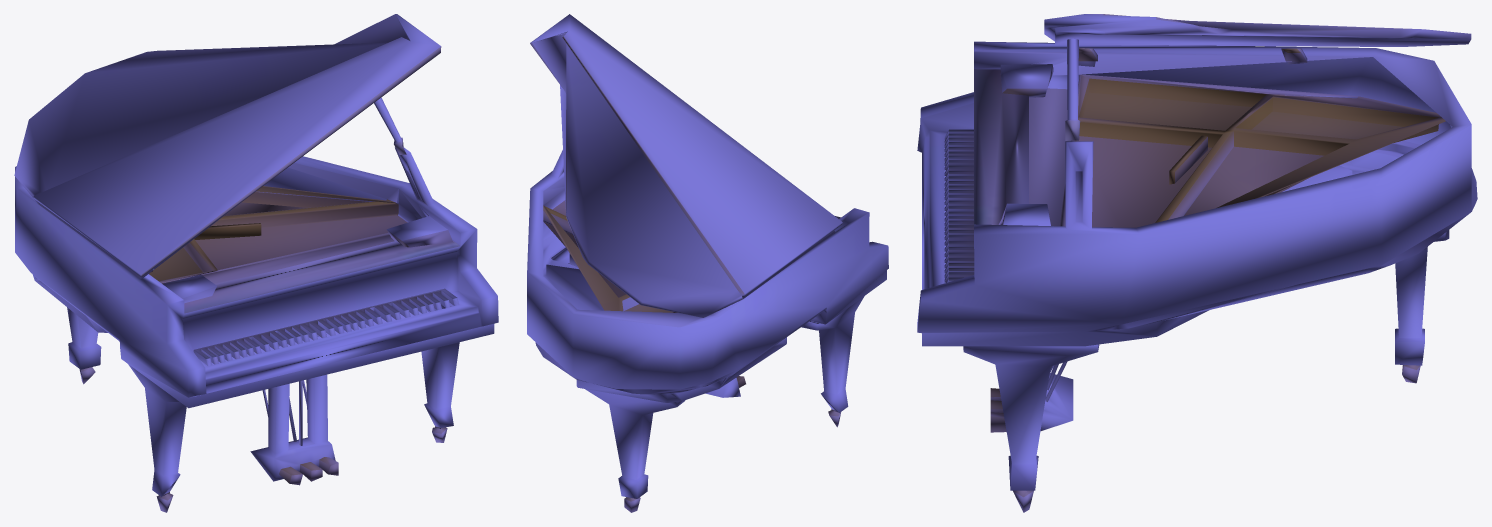
Rendered from model.progressive.glb.
3 views of the same model, side by side, from view 1: azimuth 30°, elevation 25°; view 2: azimuth 150°, elevation 25°; view 3: azimuth 270°, elevation 25° (orthographic). The views are drawn at different scales.
Parts seen in each view (by area): view 1: material; view 2: material; view 3: material.
Boxes of the visible parts, <box> form: material: <box>14,14,498,512</box>; material: <box>527,14,888,512</box>; material: <box>917,14,1477,512</box>.
Bounding box in the file's own units: 1.54 × 1.86 × 1.89.
1 material, 1 textured.
